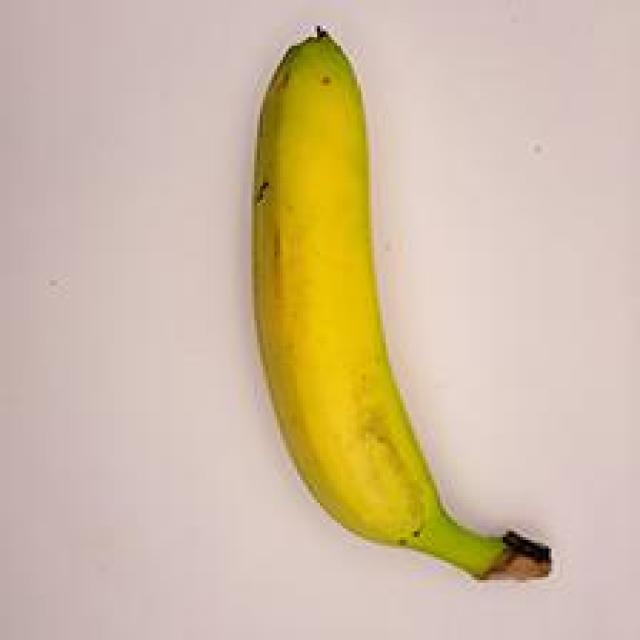unripe: (210, 39, 588, 611)
